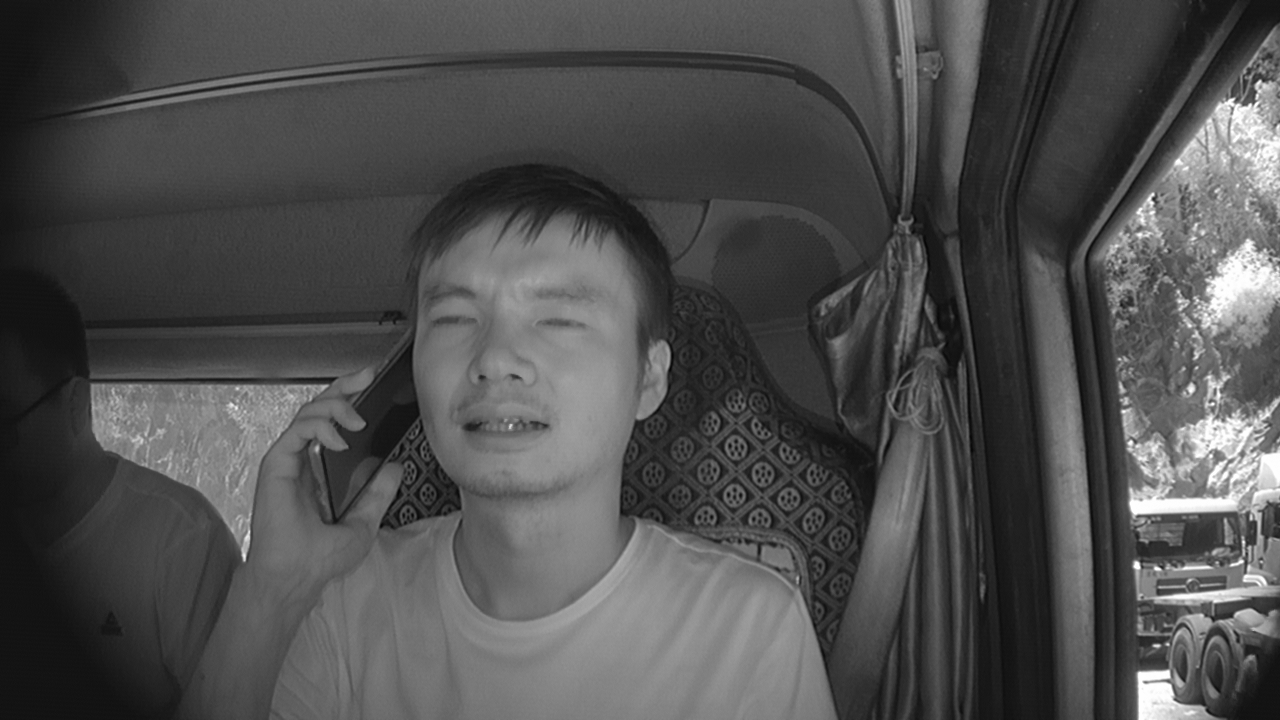hand: (248, 372, 403, 585)
